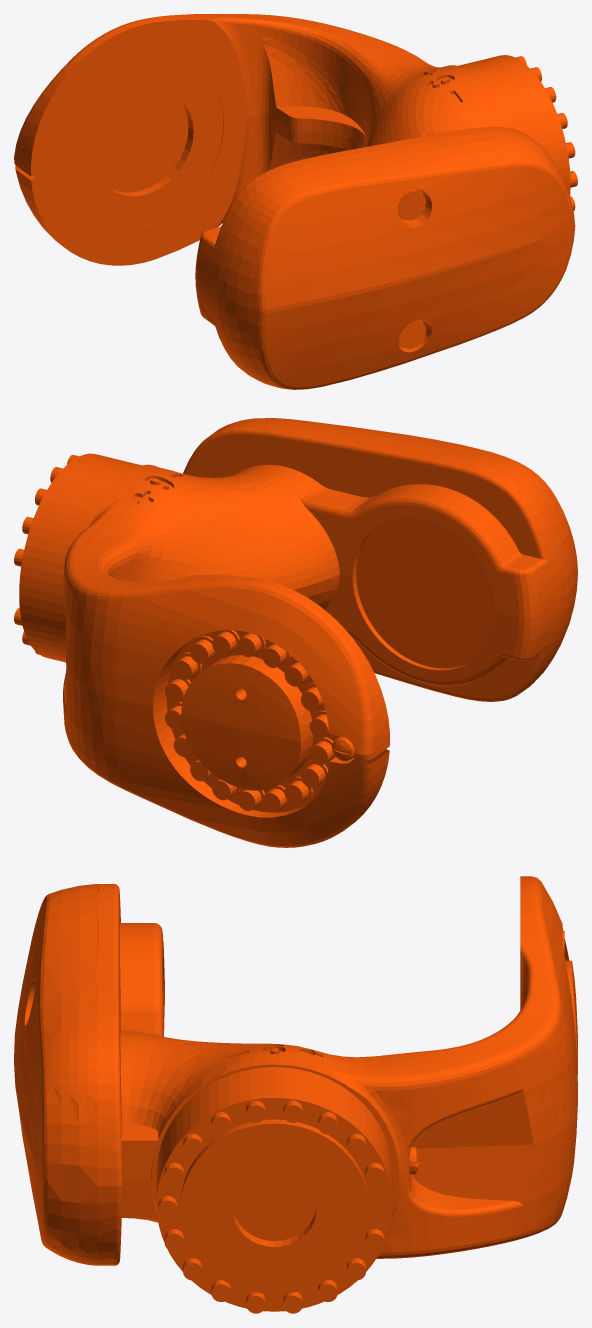
3 renders of one model, top to bottom at view 1: azimuth 30°, elevation 25°; view 2: azimuth 150°, elevation 25°; view 3: azimuth 270°, elevation 25°, orthographic. The views are drawn at different scales.
Visible parts, largest first — view 1: link_5; view 2: link_5; view 3: link_5.
Part boxes in pixels (x1=…): link_5: x1=14, y1=14, x2=577, y2=389; link_5: x1=14, y1=418, x2=577, y2=847; link_5: x1=14, y1=876, x2=577, y2=1313.
Bounding box in the file's own units: 0.202 × 0.2008 × 0.115.
